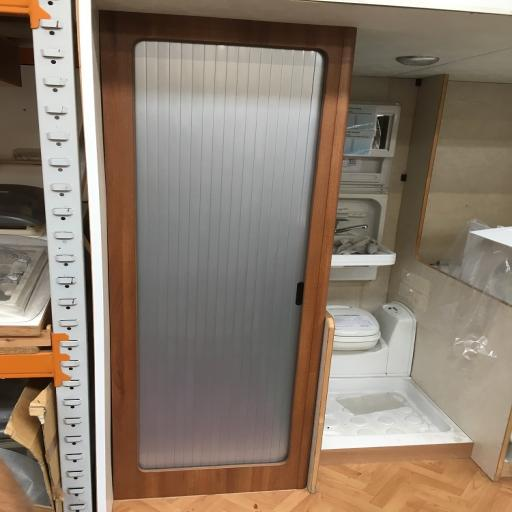Door: (99, 8, 357, 500)
